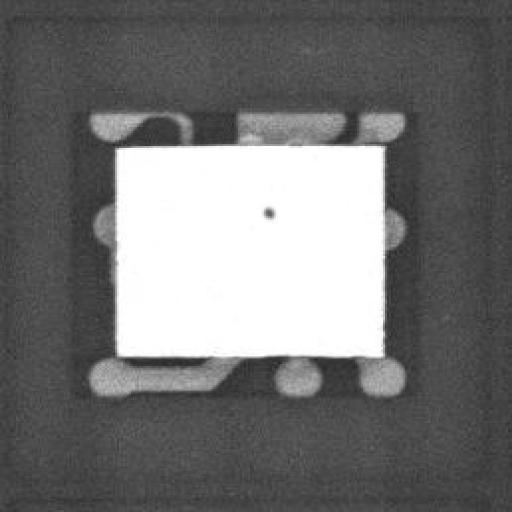DIE_INK: (244, 210, 264, 232)
